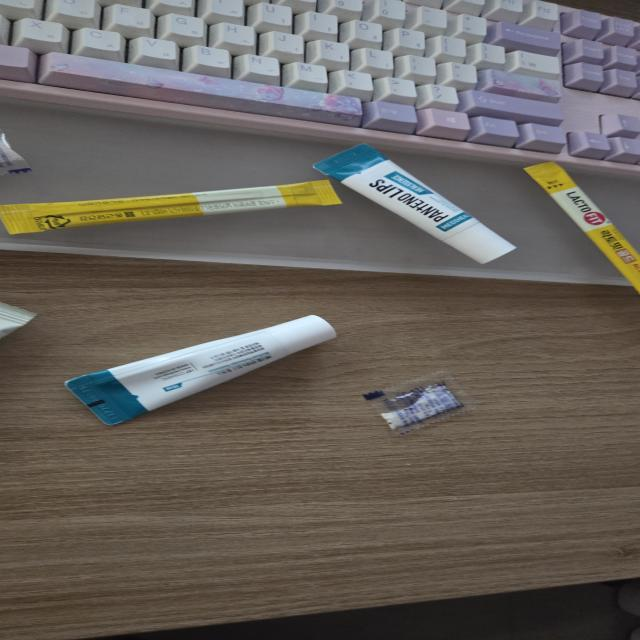lacto: (0, 178, 351, 246), (514, 156, 640, 303)
lip: (52, 309, 358, 442), (304, 138, 530, 270)
salt: (359, 366, 481, 439), (0, 126, 45, 179)
